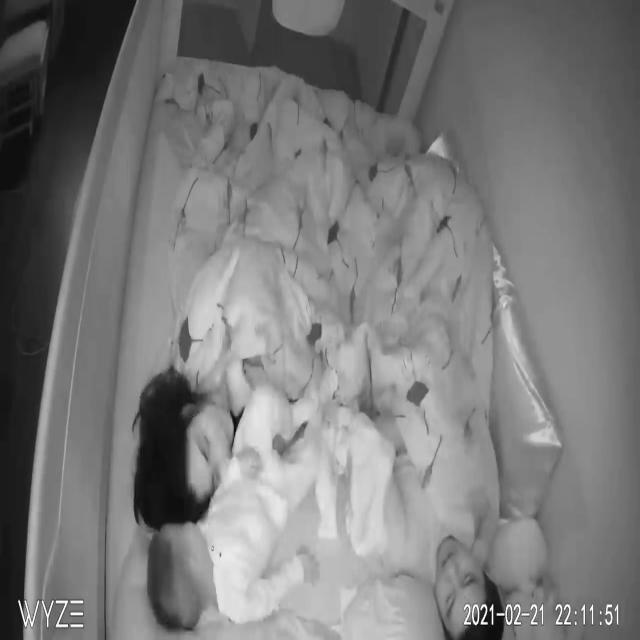baby: (143, 383, 318, 628)
